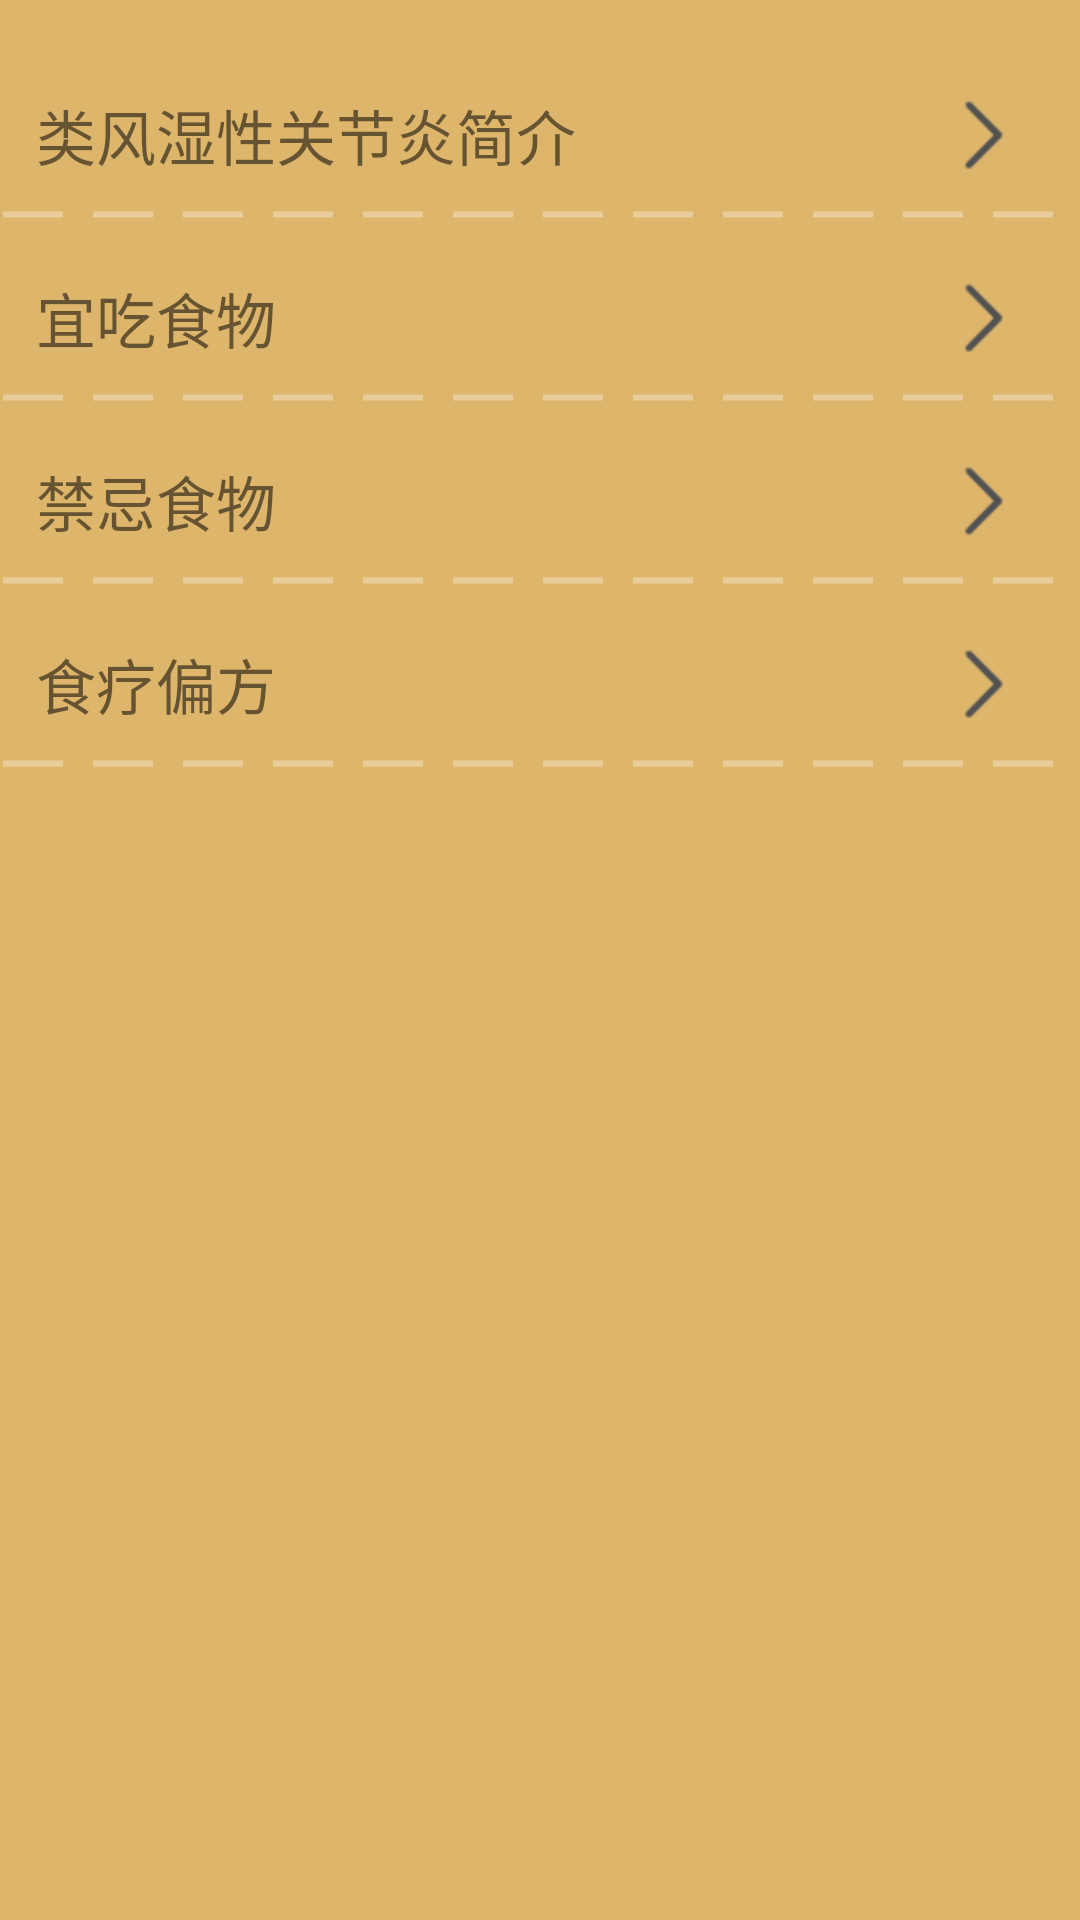

Where to tap for icons on this 1080 x 1920 app screen, as point (x, y):
arrow right: point (984, 135), point (984, 318), point (984, 501), point (984, 684)
